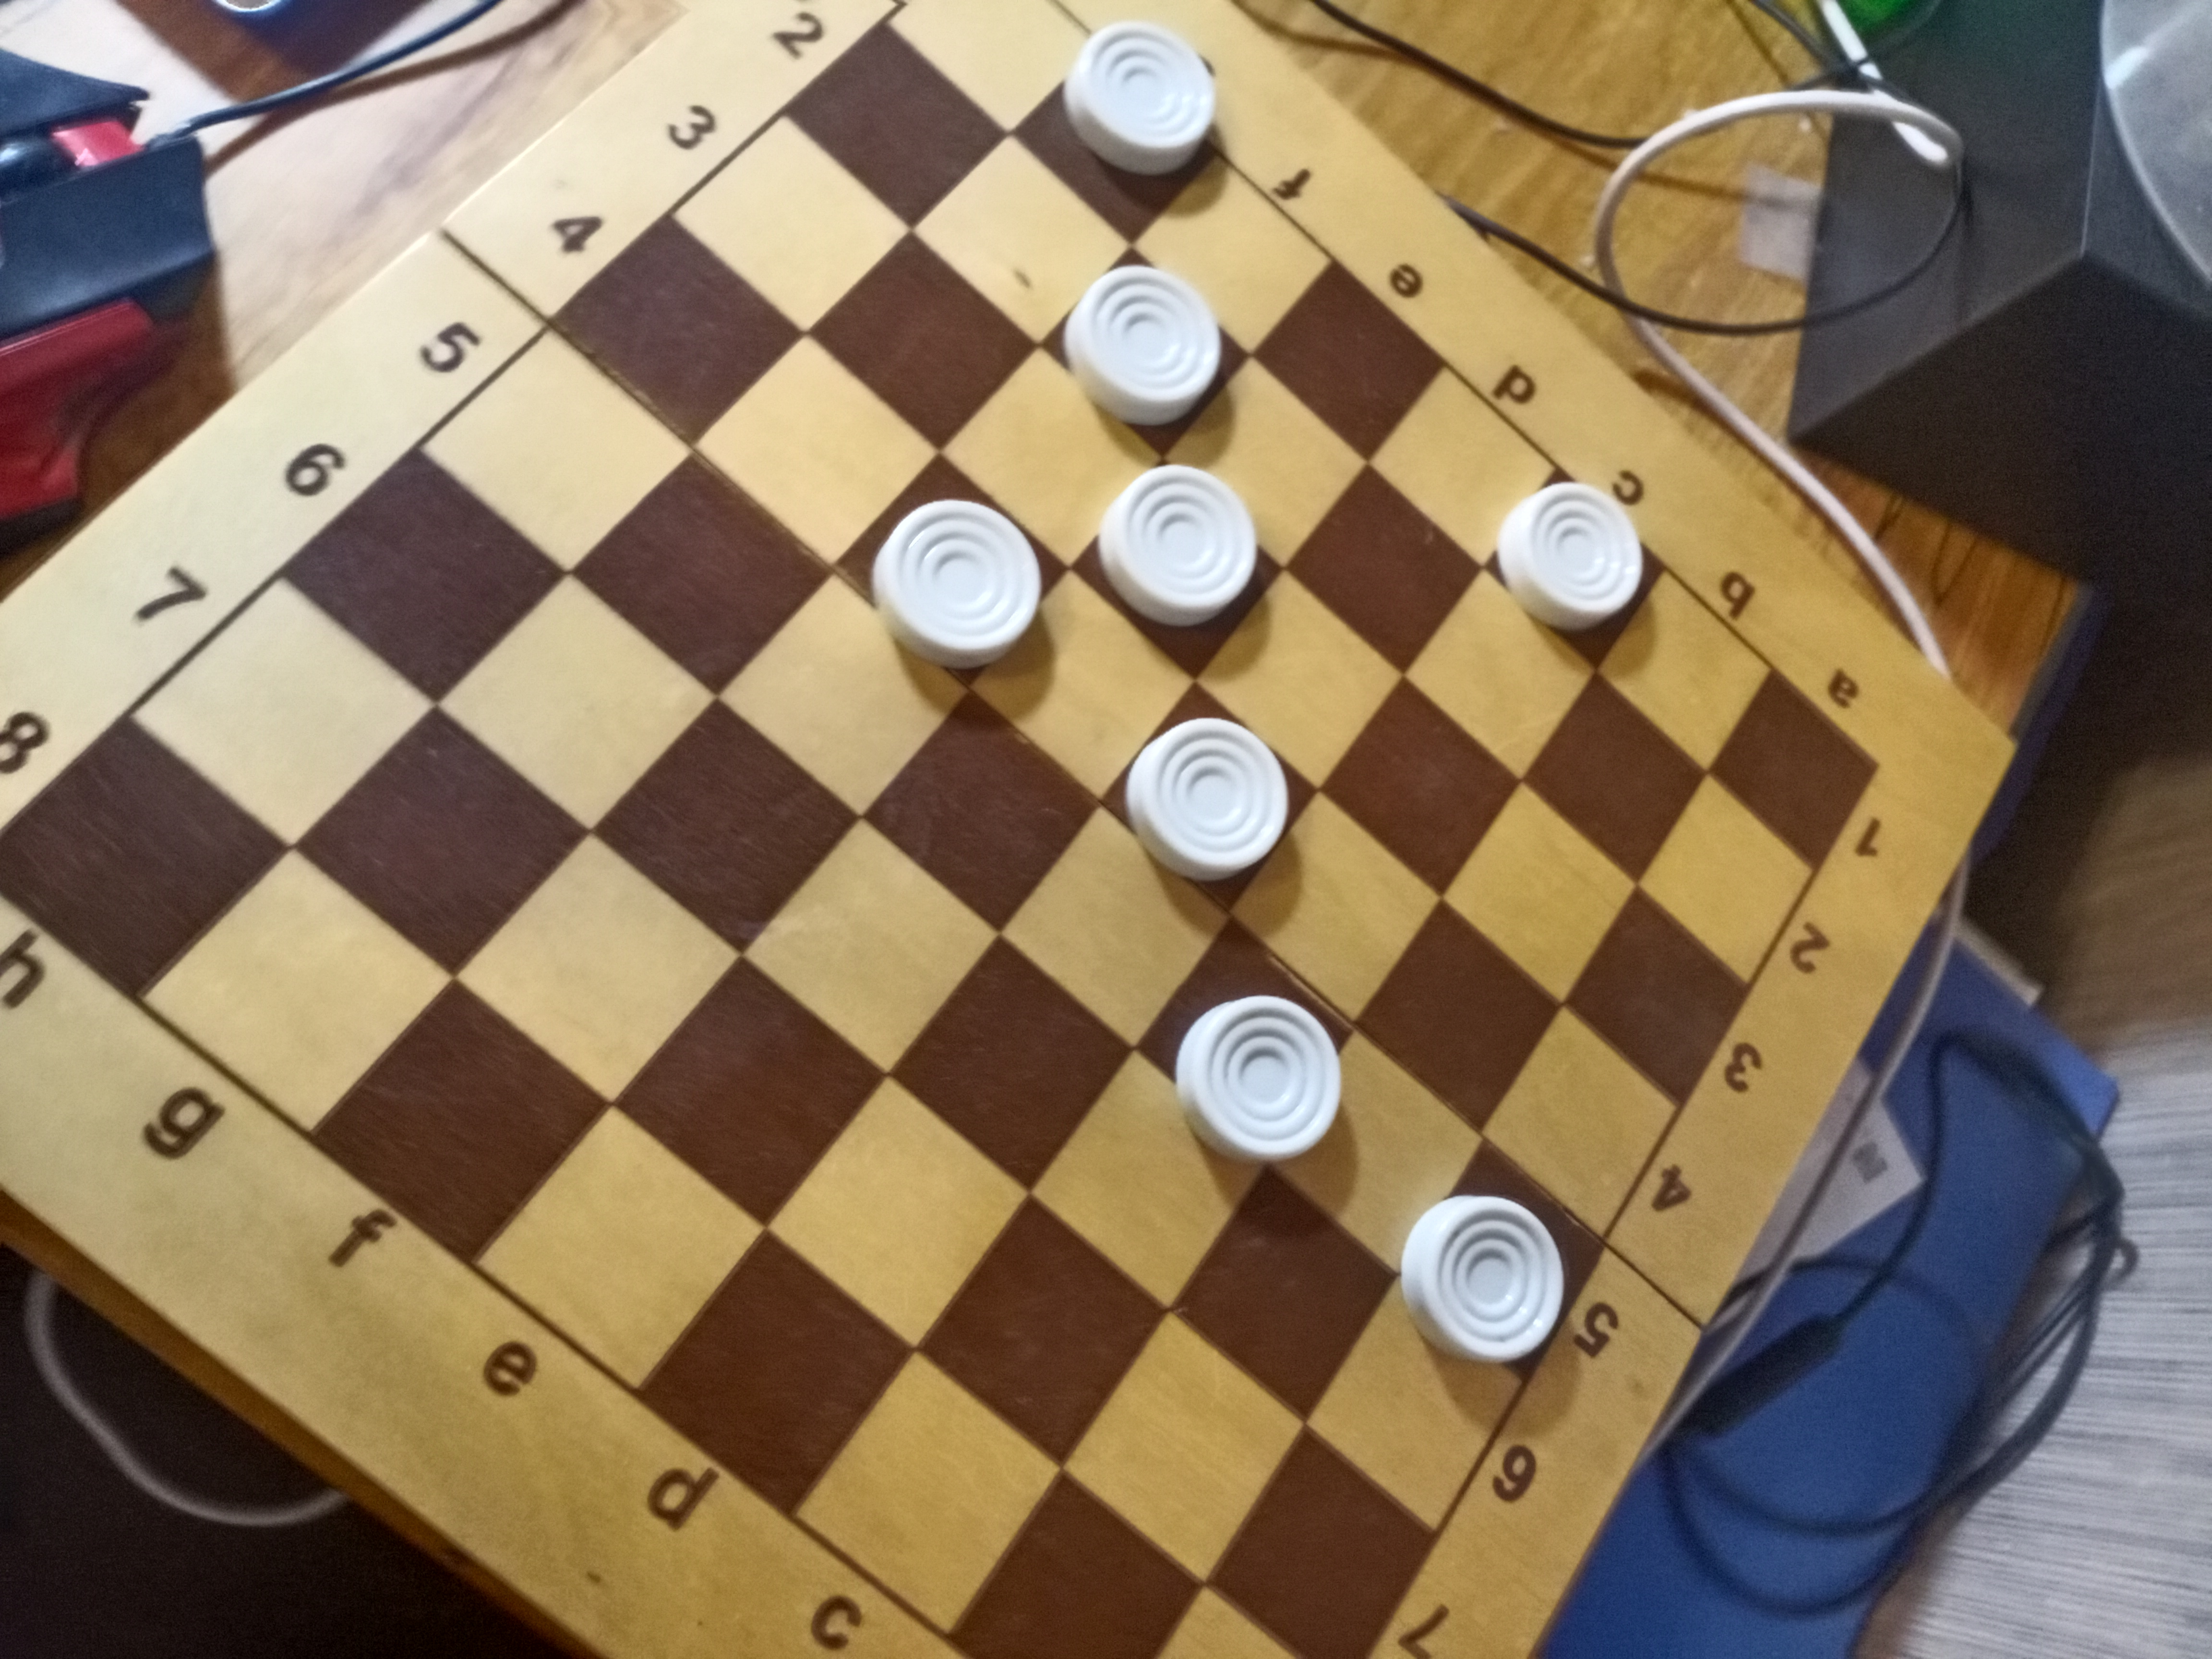White_Draught: (834, 453, 1071, 692), (1134, 918, 1353, 1164), (1103, 680, 1318, 918), (1400, 1138, 1604, 1382), (1069, 457, 1285, 680), (1010, 21, 1217, 244), (1038, 246, 1251, 457), (1486, 469, 1663, 673)
